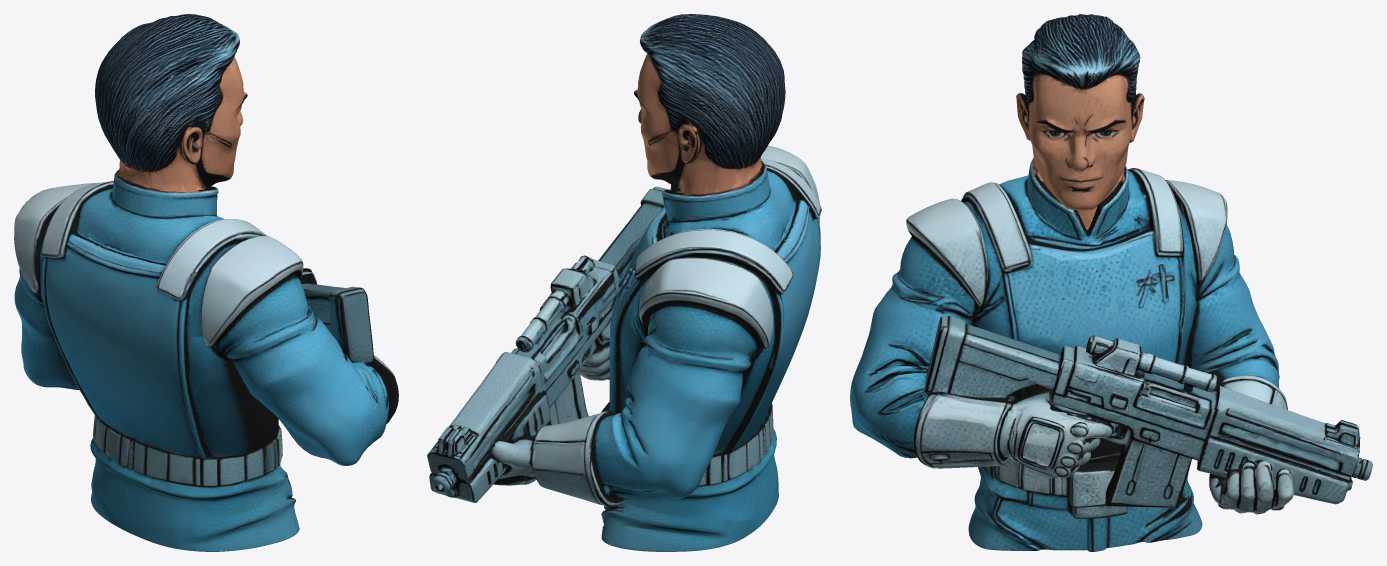
The model's file is cadet.glb.
3 views of the same model, side by side, from view 1: azimuth 30°, elevation 25°; view 2: azimuth 150°, elevation 25°; view 3: azimuth 270°, elevation 25° (orthographic).
Parts seen in each view (by area): view 1: tripo_node_54577c71-ee23-41d7-b385-f2876cf75179; view 2: tripo_node_54577c71-ee23-41d7-b385-f2876cf75179; view 3: tripo_node_54577c71-ee23-41d7-b385-f2876cf75179.
Boxes of the visible parts, x1,y1,x2,y2 form: tripo_node_54577c71-ee23-41d7-b385-f2876cf75179: (14,14,398,551); tripo_node_54577c71-ee23-41d7-b385-f2876cf75179: (427,14,821,551); tripo_node_54577c71-ee23-41d7-b385-f2876cf75179: (850,14,1372,551).
Size of the model in its own units: 0.5733 by 1 by 0.9689.
Materials: 1 (1 with a texture image).
